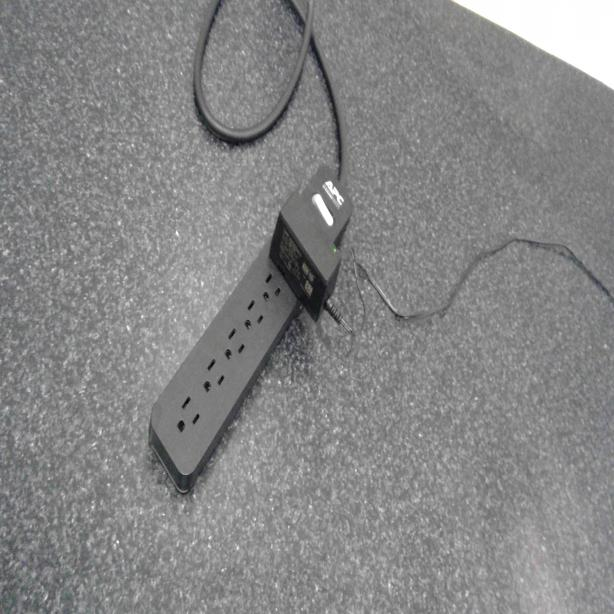typeb: (176, 389, 202, 438), (258, 267, 286, 308), (197, 358, 226, 395), (239, 298, 268, 330), (220, 328, 248, 361)
